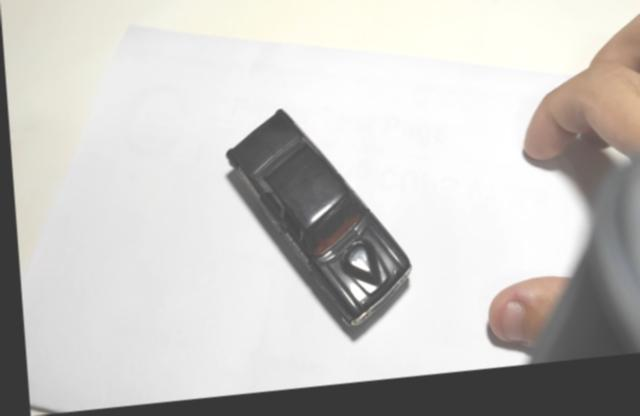01_FORD: (221, 116, 408, 351)
